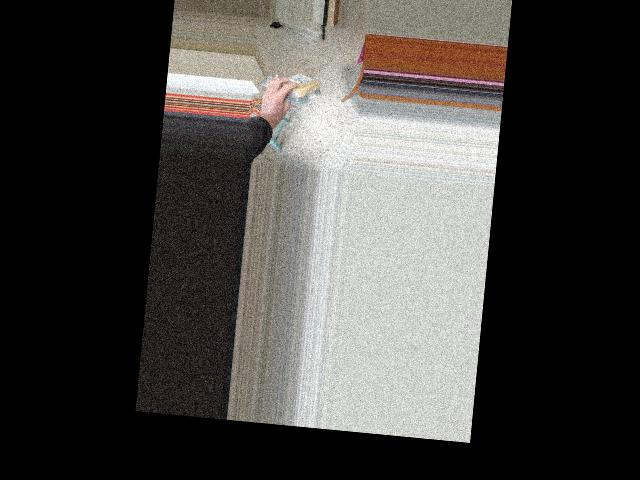cheese: (268, 71, 322, 101)
